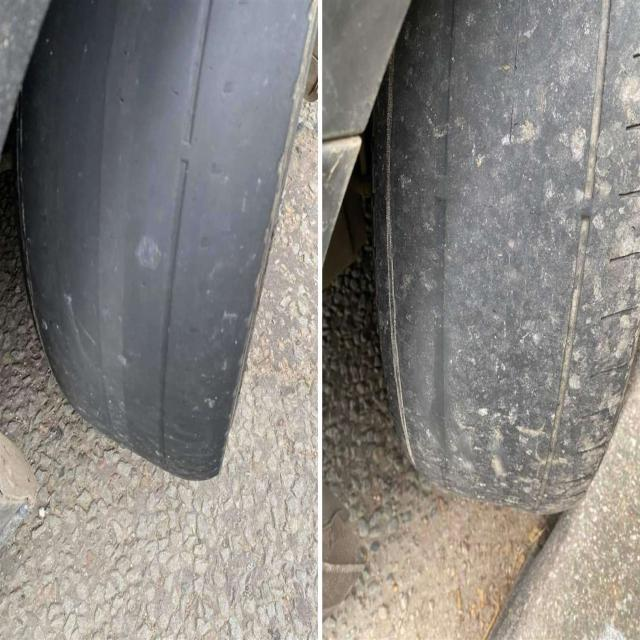Flat spots: (41, 0, 233, 465), (416, 0, 594, 492)
